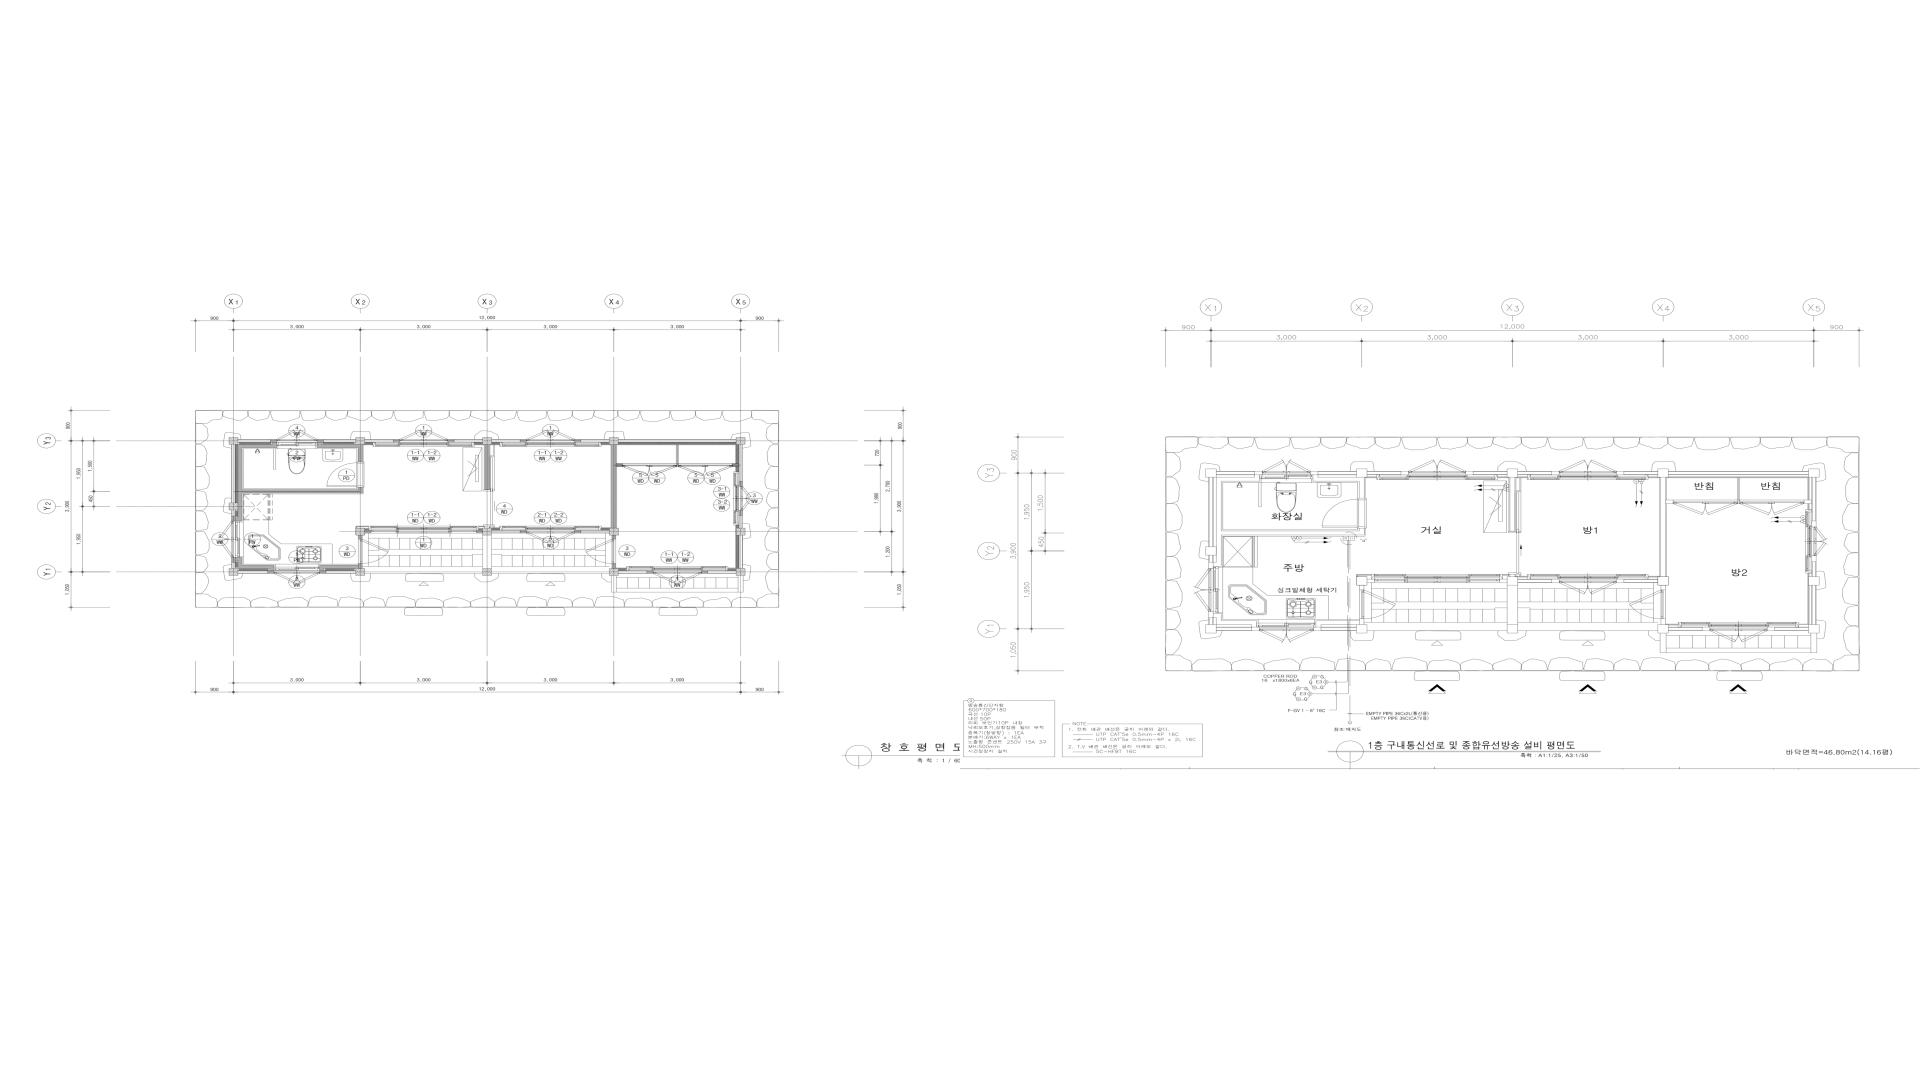door: (1323, 498, 1366, 529), (1360, 589, 1396, 618), (1630, 589, 1665, 618), (326, 462, 363, 488), (359, 539, 389, 563), (585, 539, 616, 563), (679, 463, 732, 476), (622, 464, 676, 476), (1516, 477, 1520, 572)
wall: (237, 439, 277, 489), (316, 439, 363, 462), (1221, 529, 1365, 535), (1668, 471, 1809, 477), (1213, 481, 1221, 567), (243, 488, 363, 493), (1213, 613, 1257, 628), (231, 558, 274, 571), (1660, 477, 1665, 576), (618, 439, 736, 443), (1209, 477, 1216, 547), (1509, 477, 1516, 533), (231, 489, 243, 521), (1316, 620, 1360, 628), (1313, 475, 1365, 481), (1809, 477, 1816, 527), (612, 444, 616, 527), (319, 566, 359, 574), (1311, 471, 1357, 477), (1313, 625, 1357, 632), (1216, 475, 1259, 481), (1216, 625, 1259, 632), (1767, 625, 1809, 632), (1668, 625, 1710, 632), (1367, 471, 1408, 477), (1466, 471, 1507, 477), (1518, 471, 1559, 477), (1617, 471, 1658, 477), (1617, 576, 1658, 583), (1518, 576, 1559, 583), (1809, 585, 1816, 625), (1216, 471, 1255, 477), (485, 444, 489, 491), (1809, 556, 1817, 576), (232, 444, 235, 502), (738, 444, 742, 481), (1357, 575, 1374, 583), (237, 439, 270, 443), (323, 439, 356, 443), (738, 535, 742, 568), (1254, 537, 1258, 567), (455, 439, 483, 443), (492, 439, 520, 443), (582, 439, 609, 443), (1809, 576, 1820, 585), (1658, 576, 1668, 585), (1507, 576, 1518, 585), (1357, 576, 1367, 585), (1360, 481, 1365, 498), (1209, 555, 1216, 568), (1205, 469, 1216, 477), (1357, 469, 1367, 477), (1507, 469, 1518, 477), (1658, 469, 1668, 477), (1809, 469, 1820, 477), (1809, 625, 1820, 633), (1658, 625, 1668, 633), (1357, 625, 1367, 633), (1205, 625, 1216, 633), (1205, 547, 1216, 555), (237, 571, 268, 574), (1360, 583, 1371, 589), (618, 571, 647, 574), (365, 439, 393, 442), (736, 527, 745, 535), (1499, 575, 1509, 583), (708, 571, 736, 574), (736, 568, 745, 576), (609, 568, 618, 576), (609, 527, 618, 535), (582, 530, 609, 533), (492, 530, 520, 533), (356, 527, 365, 535), (356, 568, 365, 576), (1259, 483, 1262, 508), (229, 568, 237, 576), (229, 502, 237, 510), (229, 438, 239, 444), (356, 438, 365, 444), (483, 438, 492, 444), (609, 438, 618, 444), (736, 438, 745, 444), (483, 529, 492, 535), (738, 516, 742, 529), (1509, 572, 1522, 576), (1209, 617, 1216, 625), (1251, 537, 1253, 567), (1222, 537, 1224, 567), (1360, 618, 1365, 625), (1254, 471, 1262, 475), (393, 439, 400, 443), (448, 439, 455, 443), (520, 439, 526, 443), (575, 439, 582, 443), (1662, 618, 1665, 625), (738, 481, 742, 487), (738, 510, 742, 516), (231, 510, 235, 516), (231, 563, 235, 568), (1209, 612, 1213, 617), (612, 563, 616, 568), (359, 563, 363, 568), (702, 571, 708, 574), (647, 571, 654, 574), (575, 530, 582, 533), (520, 530, 526, 533), (476, 530, 483, 533), (365, 530, 372, 533), (268, 571, 274, 574), (1662, 585, 1665, 589), (612, 535, 616, 539), (359, 535, 363, 539), (1222, 567, 1251, 567), (1224, 537, 1251, 537)
window: (1559, 579, 1617, 595), (368, 526, 479, 534), (1408, 460, 1466, 475), (1559, 460, 1617, 475), (1710, 628, 1767, 642), (1195, 568, 1213, 612), (1259, 628, 1313, 642), (1262, 460, 1311, 475), (1377, 475, 1498, 480), (1527, 475, 1648, 480), (1679, 622, 1799, 628), (400, 430, 448, 442), (526, 531, 575, 543), (219, 521, 233, 558), (373, 442, 475, 447), (1371, 575, 1503, 579), (526, 430, 575, 440), (654, 572, 702, 583), (1374, 579, 1499, 583), (1527, 575, 1648, 579), (274, 572, 319, 583), (277, 429, 316, 440), (1257, 620, 1316, 628), (1213, 567, 1222, 613), (1812, 527, 1826, 556), (1805, 510, 1812, 574), (500, 443, 601, 447), (626, 567, 728, 571), (500, 526, 601, 530), (1259, 475, 1313, 479), (235, 521, 240, 558), (274, 567, 319, 571), (277, 442, 316, 446)
